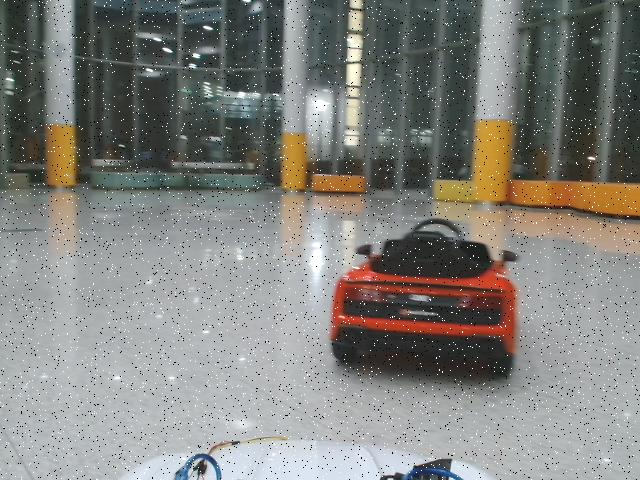car: (330, 219, 520, 372)
